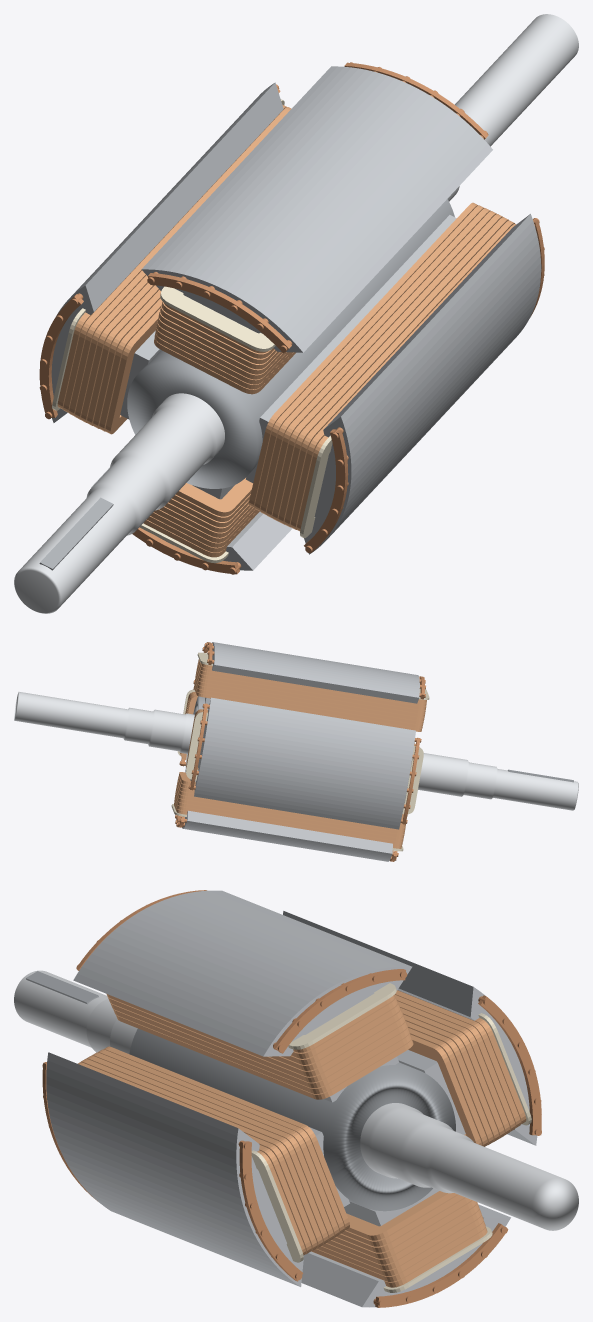
File: sync_rotorAsm.glb
The picture shows the model from 3 angles, top to bottom: view 1: azimuth 30°, elevation 25°; view 2: azimuth 150°, elevation 25°; view 3: azimuth 270°, elevation 25°; orthographic projection. The views are drawn at different scales.
Size of the model in its own units: 1.87 by 0.8361 by 1.15.
